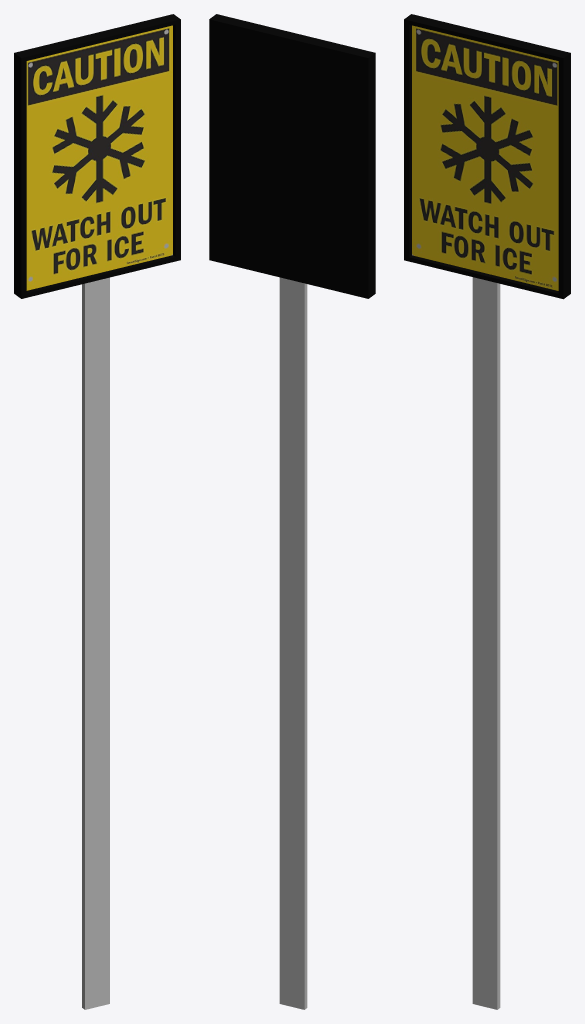
The model's file is nieve2.obj.
3 renders of one model, left to right at view 1: azimuth 30°, elevation 25°; view 2: azimuth 150°, elevation 25°; view 3: azimuth 330°, elevation 25°, orthographic.
Visible parts, largest first — view 1: sign3; view 2: sign3; view 3: sign3.
Part boxes in pixels (x1,y1,x2,y2): sign3: [14, 14, 180, 1009]; sign3: [209, 14, 375, 1009]; sign3: [404, 14, 570, 1009].
Size of the model in its own units: 0.34 by 1.98 by 0.027.
